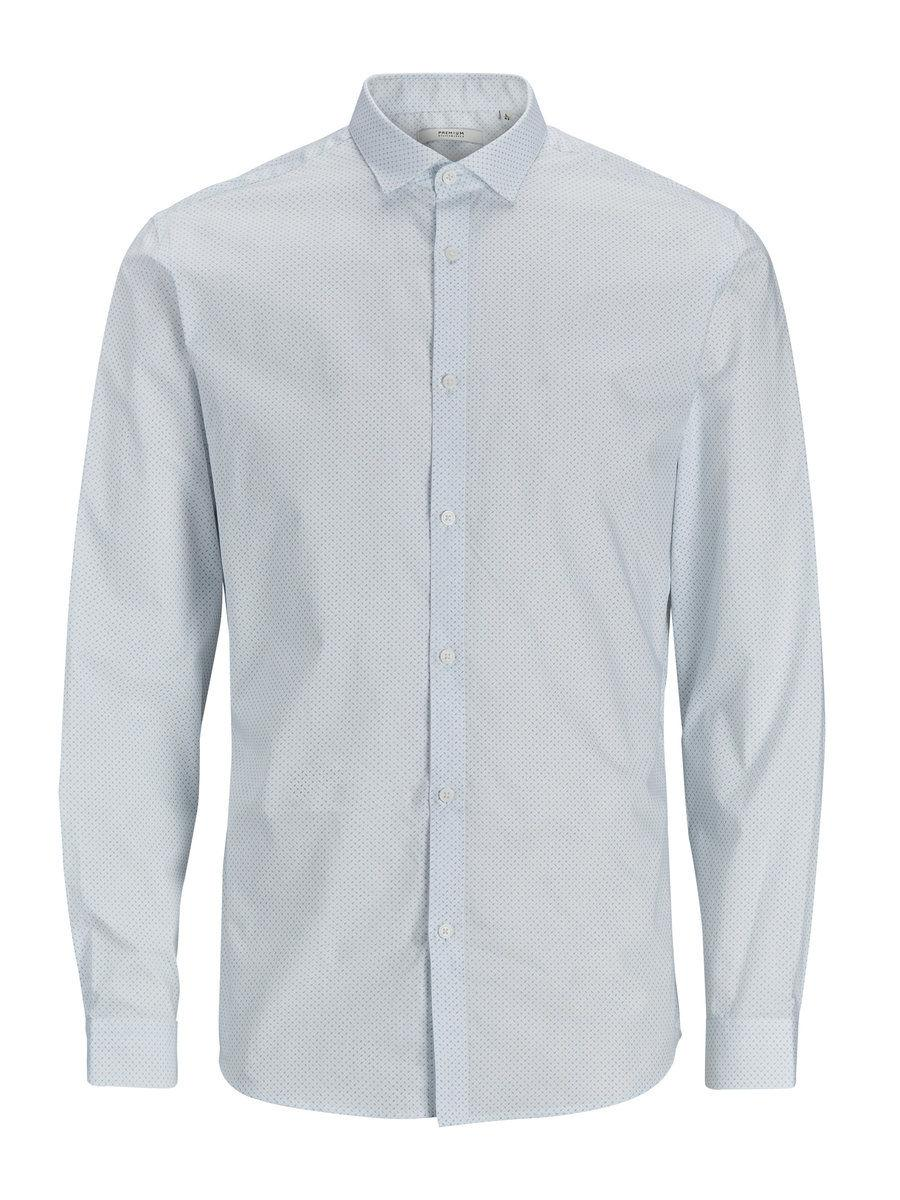teeshirt: (29, 73, 834, 1122)
